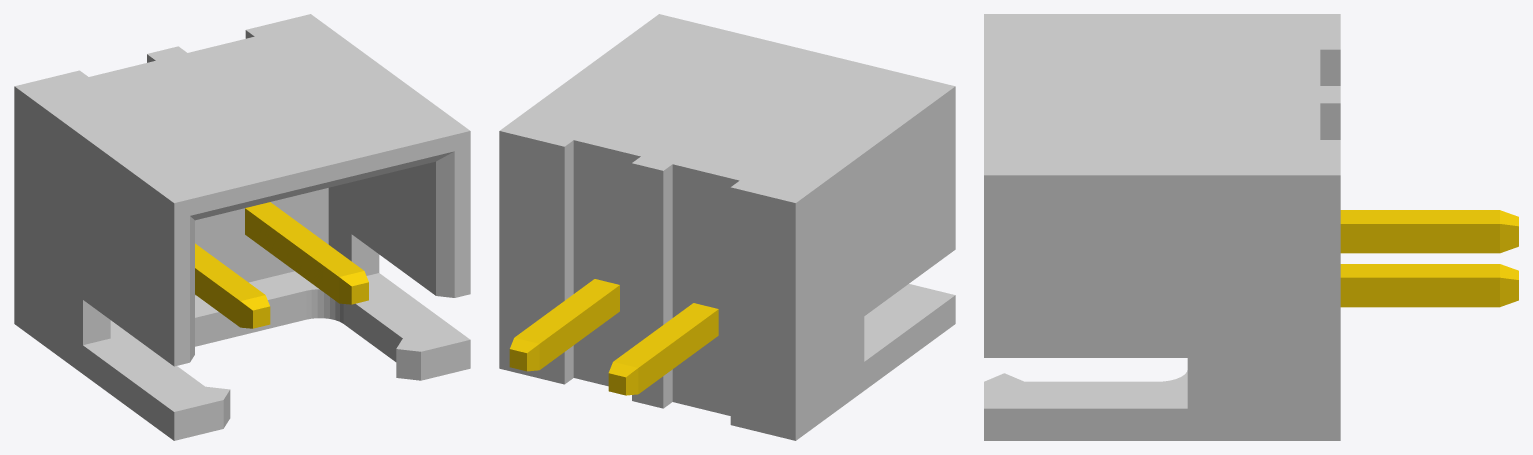
File: DS1069-2 CWF-2.obj
The picture shows the model from 3 angles, left to right: view 1: azimuth 30°, elevation 25°; view 2: azimuth 150°, elevation 25°; view 3: azimuth 270°, elevation 25°; orthographic projection. The views are drawn at different scales.
Parts seen in each view (by area): view 1: DS1069-2_CWF-2; view 2: DS1069-2_CWF-2; view 3: DS1069-2_CWF-2.
Boxes of the visible parts, x1,y1,x2,y2 form: DS1069-2_CWF-2: (14,14,470,440); DS1069-2_CWF-2: (499,14,955,440); DS1069-2_CWF-2: (984,14,1518,440).
Size of the model in its own units: 0.0145 by 0.0111 by 0.0203.
